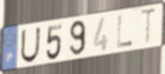4: (93, 16, 110, 53)
5: (45, 22, 64, 60)
9: (68, 19, 87, 59)
L: (116, 14, 133, 49)
T: (139, 7, 158, 47)
U: (19, 26, 42, 65)
